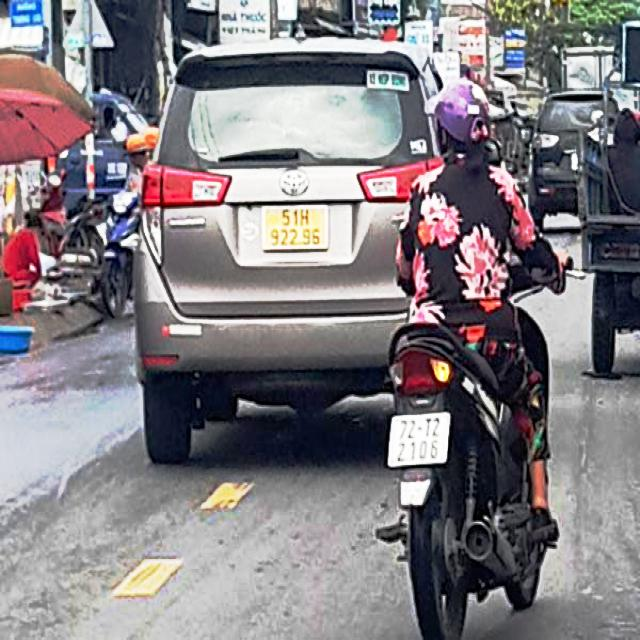license_plate: (389, 417, 452, 464), (263, 207, 327, 251)
